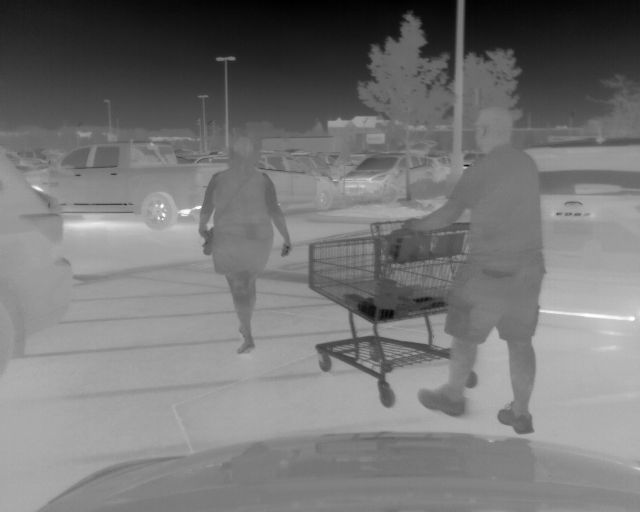car: (513, 134, 640, 340), (44, 139, 230, 230), (2, 151, 77, 373), (338, 151, 438, 205), (260, 151, 340, 212)
people: (406, 103, 548, 435), (198, 137, 290, 356)
